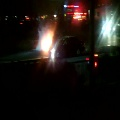fire: (41, 30, 54, 51)
